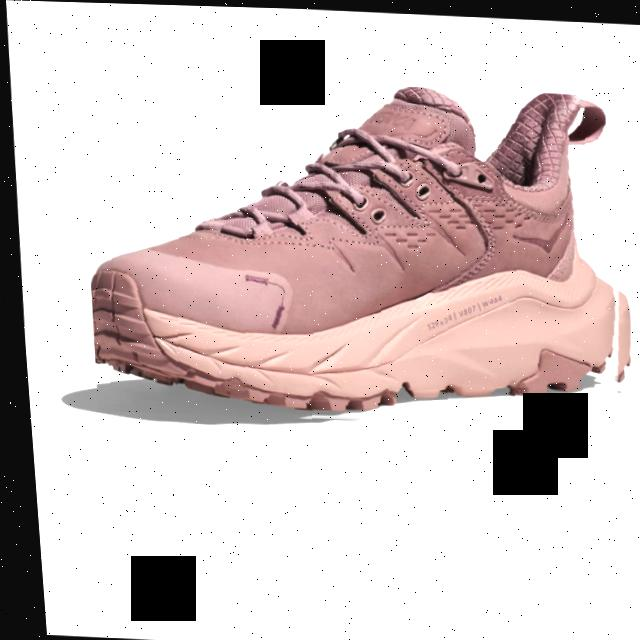shoe: (72, 71, 640, 433)
